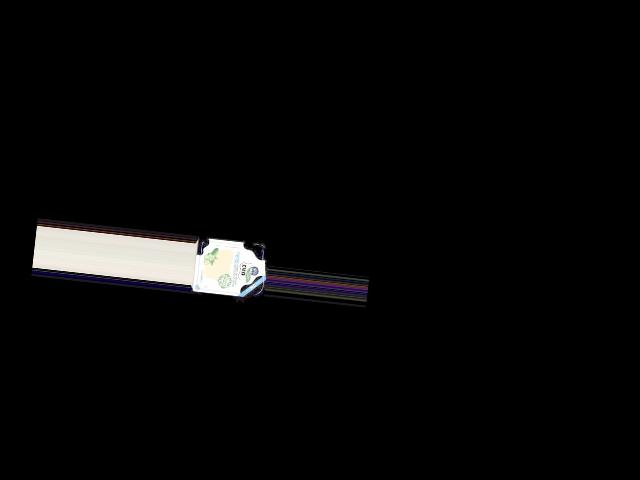cheese: (189, 234, 268, 302)
